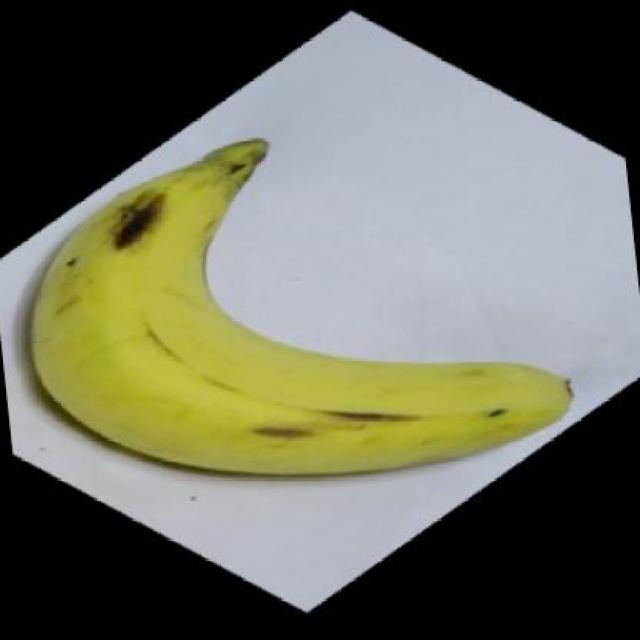ripe: (34, 127, 581, 520)
